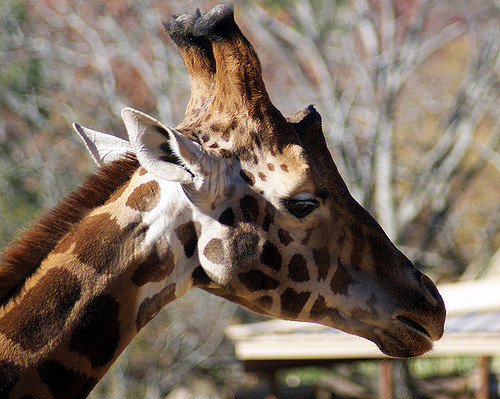giraffe: (25, 24, 450, 370)
